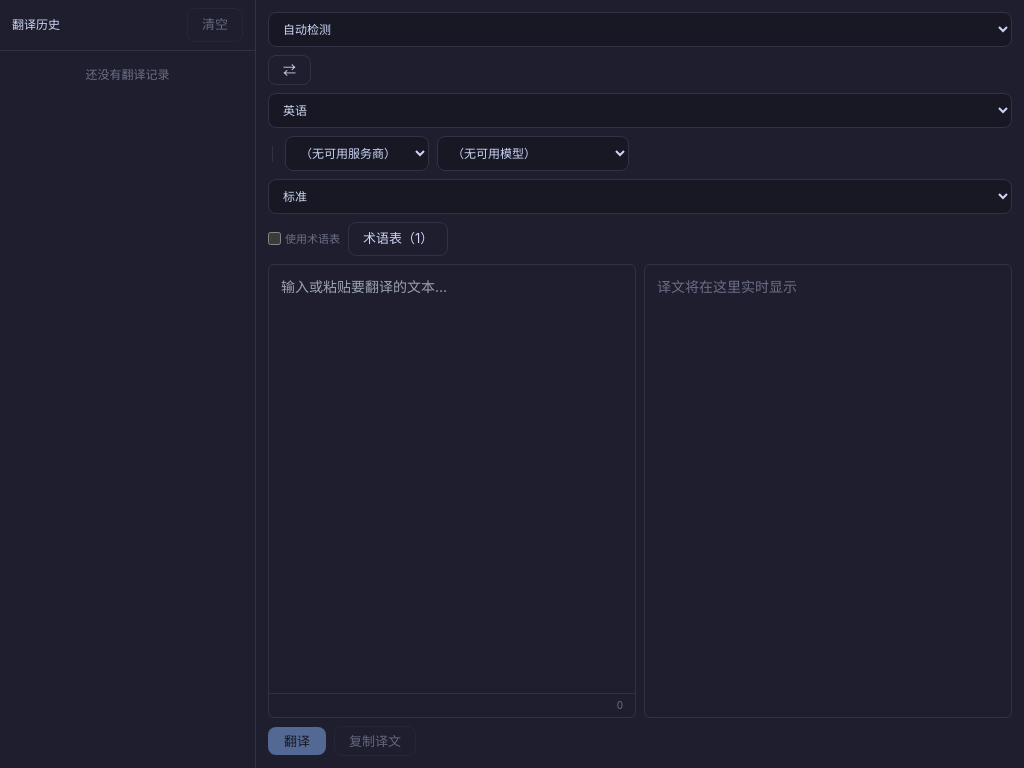
it: 正向对照：成功仍然清空输入并落进列表（本批只该改失败那一半） › 库里已有的词条不因失败那一趟被挤掉，也不会多出一行新的
Click the button "术语表（1）" at (398, 239), box [348,222,448,256]
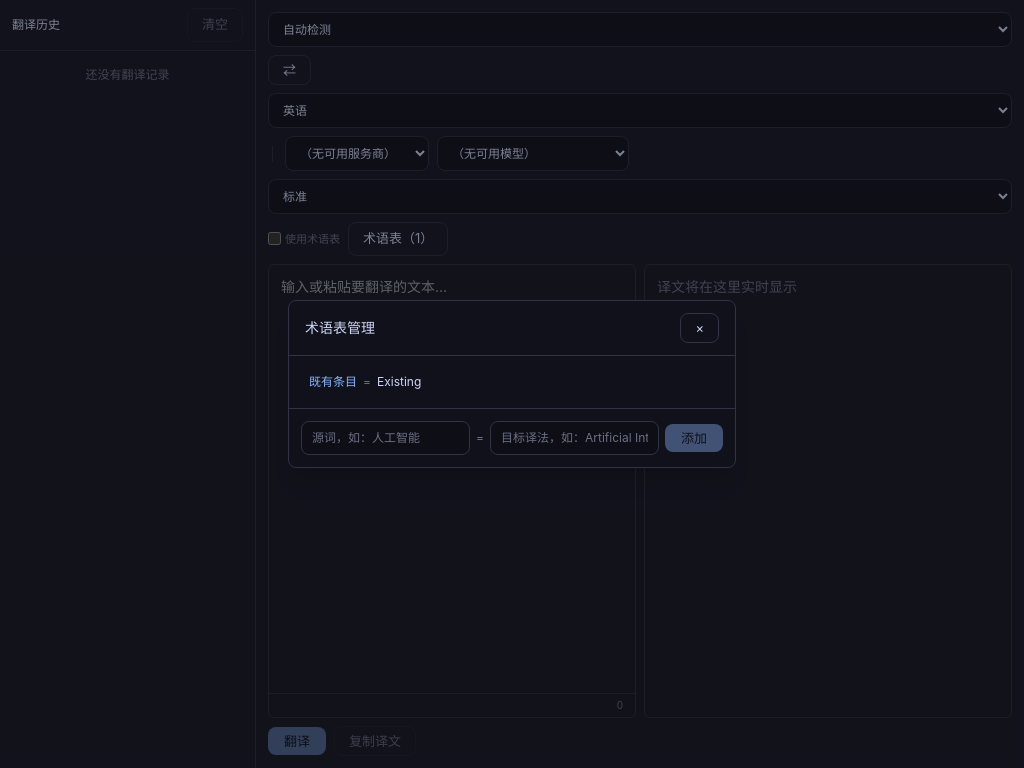
expect the text "既有条目" is shown: met, box [309,374,357,389]
Type "人工智能" into the field with placeholder "源词，如：人工智能" at (386, 438), box [301,421,470,455]
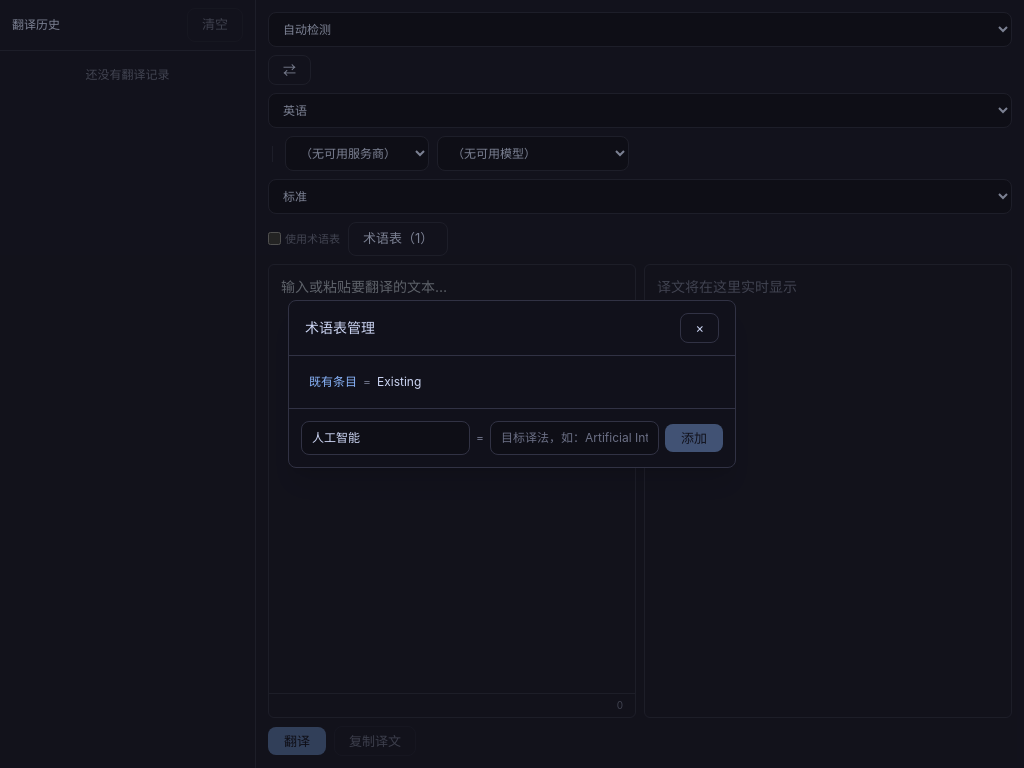
Type "AI" into the field with placeholder "目标译法，如：Artificial Intelligence" at (574, 438), box [490,421,659,455]
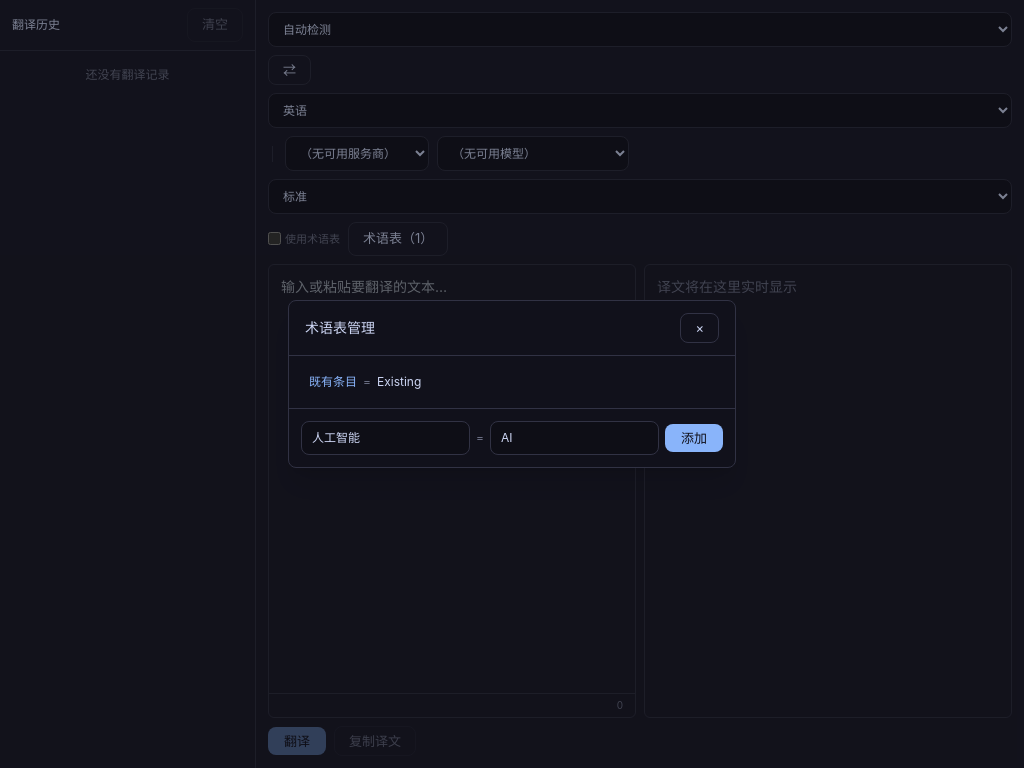
Click the button "添加" at (694, 438), box [665,424,723,452]
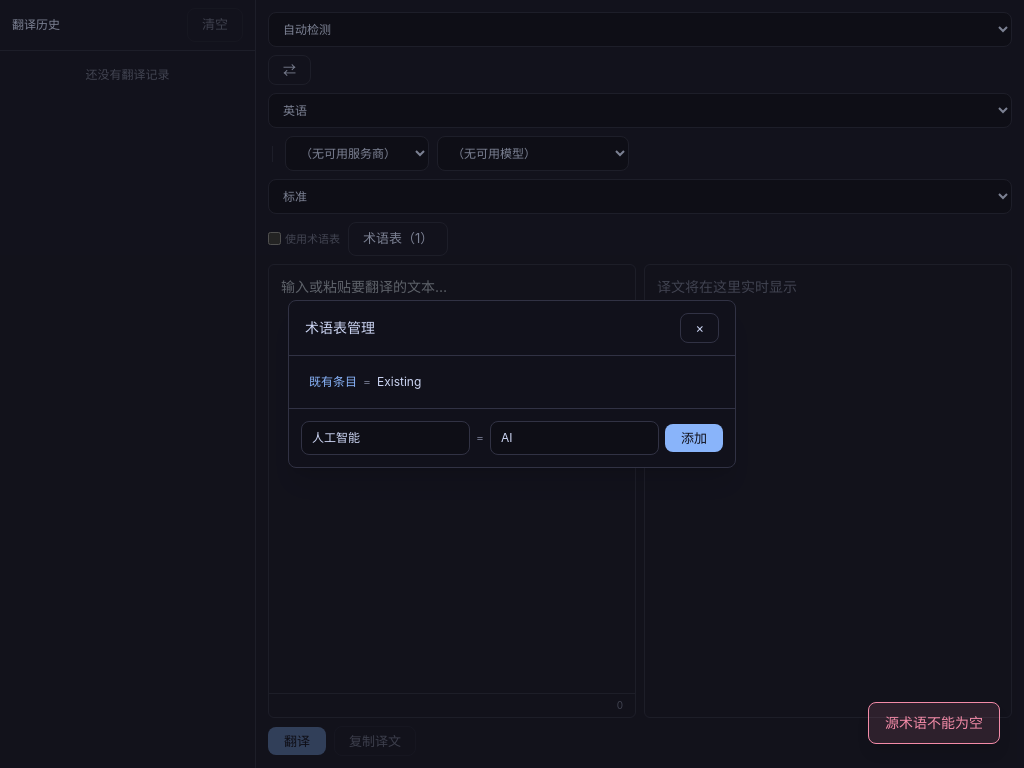
expect the text "既有条目" is shown: met, box [309,374,357,389]
expect the number of elements with class "group" is 1: met, box [309,374,421,389]
expect the message reads "源术语不能为空": met, box [885,714,983,731]
